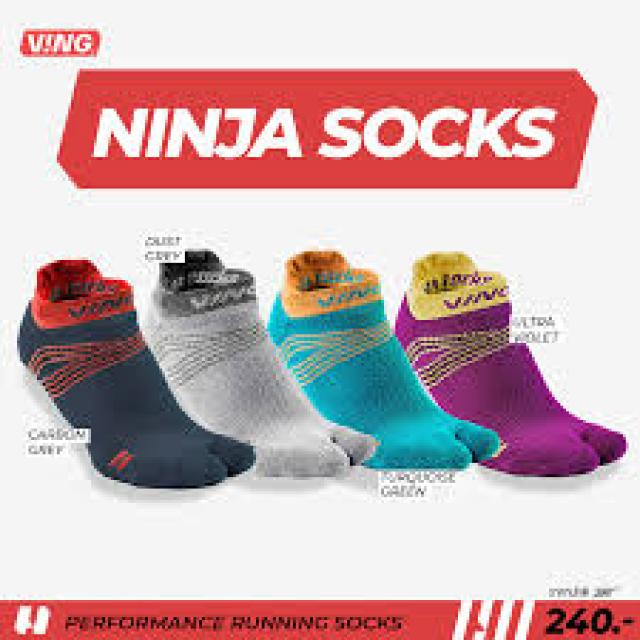sock: (14, 257, 256, 489), (137, 246, 376, 477), (392, 249, 626, 474), (264, 246, 500, 468)
